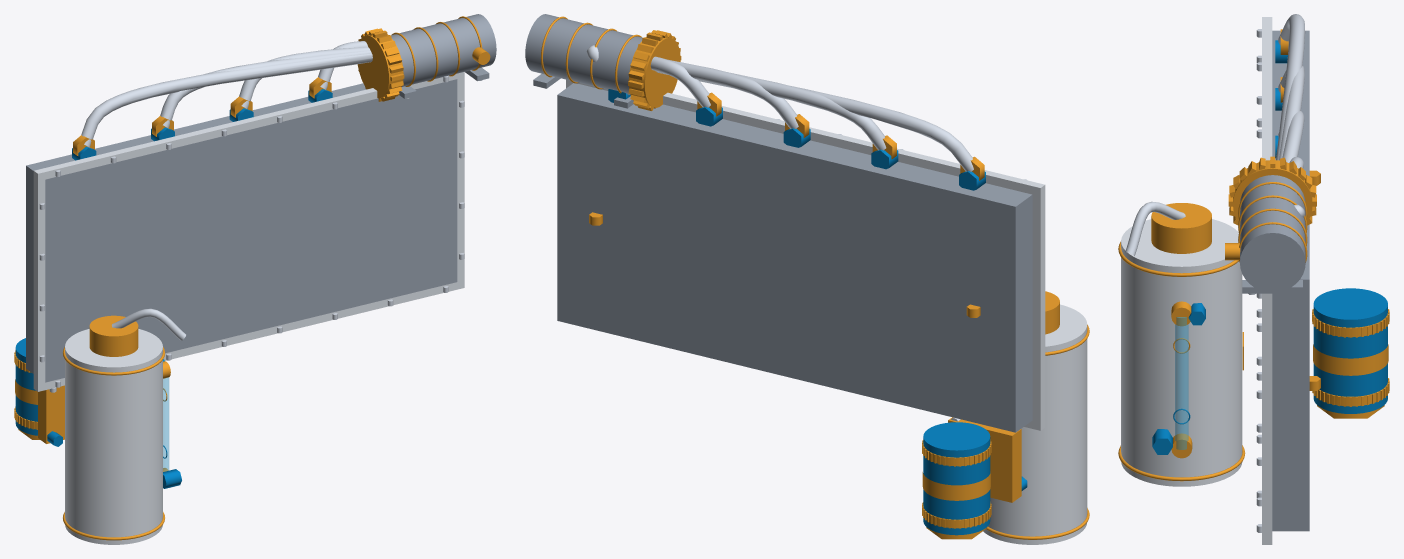
The model's file is dry-sump.glb.
3 renders of one model, left to right at view 1: azimuth 30°, elevation 25°; view 2: azimuth 150°, elevation 25°; view 3: azimuth 270°, elevation 25°, orthographic. The views are drawn at different scales.
Parts seen in each view (by area): view 1: CNC_Low_Profile_Scavenge_Pan_Trough, Cyclone_DeAerator_Reservoir_Vessel, Perimeter_Pan_Rail_Mounting_Flange, Gerotor_4Stage_Pump_Body, AN12_Braided_Scavenge_Line_1, Tank_Breather_Cyclone_Cap, Gilmer_Cogged_Pulley_Wheel, Thermostatic_Sandwich_Adapter_Plate, AN12_Braided_Scavenge_Line_2, Cobalt_Racing_HighFlow_Filter_Canister, AN12_Braided_Scavenge_Line_3, Breather_Catch_Can_Vent_Hose (+1 smaller); view 2: CNC_Low_Profile_Scavenge_Pan_Trough, Cyclone_DeAerator_Reservoir_Vessel, Perimeter_Pan_Rail_Mounting_Flange, Gerotor_4Stage_Pump_Body, Cobalt_Racing_HighFlow_Filter_Canister, Thermostatic_Sandwich_Adapter_Plate, AN12_Braided_Scavenge_Line_1, AN12_Braided_Scavenge_Line_2, Gilmer_Cogged_Pulley_Wheel, AN12_Braided_Scavenge_Line_3, Filter_Etched_Spec_Label_Band, AN12_Braided_Scavenge_Line_4 (+2 smaller); view 3: Cyclone_DeAerator_Reservoir_Vessel, CNC_Low_Profile_Scavenge_Pan_Trough, Gerotor_4Stage_Pump_Body, Cobalt_Racing_HighFlow_Filter_Canister, Perimeter_Pan_Rail_Mounting_Flange, Tank_Breather_Cyclone_Cap, Oil_Level_Quartz_Sight_Glass, AN12_Braided_Scavenge_Line_1, Filter_Etched_Spec_Label_Band, Gilmer_Cogged_Pulley_Wheel, Breather_Catch_Can_Vent_Hose, AN12_Braided_Scavenge_Line_2 (+9 smaller).
Part boxes in pixels (bbox=[...]): CNC_Low_Profile_Scavenge_Pan_Trough: bbox=[26, 79, 457, 382]; Cyclone_DeAerator_Reservoir_Vessel: bbox=[65, 329, 162, 544]; Perimeter_Pan_Rail_Mounting_Flange: bbox=[33, 72, 464, 391]; Gerotor_4Stage_Pump_Body: bbox=[391, 14, 496, 86]; AN12_Braided_Scavenge_Line_1: bbox=[81, 53, 372, 147]; Tank_Breather_Cyclone_Cap: bbox=[89, 315, 138, 356]; Gilmer_Cogged_Pulley_Wheel: bbox=[357, 34, 403, 98]; Thermostatic_Sandwich_Adapter_Plate: bbox=[38, 385, 64, 443]; AN12_Braided_Scavenge_Line_2: bbox=[160, 51, 371, 128]; Cobalt_Racing_HighFlow_Filter_Canister: bbox=[15, 338, 37, 435]; AN12_Braided_Scavenge_Line_3: bbox=[239, 47, 370, 109]; Breather_Catch_Can_Vent_Hose: bbox=[112, 308, 185, 340]; CNC_Low_Profile_Scavenge_Pan_Trough: bbox=[557, 83, 1032, 432]; Cyclone_DeAerator_Reservoir_Vessel: bbox=[983, 304, 1087, 544]; Perimeter_Pan_Rail_Mounting_Flange: bbox=[566, 79, 1045, 430]; Gerotor_4Stage_Pump_Body: bbox=[525, 14, 642, 95]; Cobalt_Racing_HighFlow_Filter_Canister: bbox=[923, 422, 990, 535]; Thermostatic_Sandwich_Adapter_Plate: bbox=[948, 417, 1021, 502]; AN12_Braided_Scavenge_Line_1: bbox=[657, 72, 973, 171]; AN12_Braided_Scavenge_Line_2: bbox=[657, 71, 886, 150]; Gilmer_Cogged_Pulley_Wheel: bbox=[628, 37, 680, 107]; AN12_Braided_Scavenge_Line_3: bbox=[655, 59, 798, 128]; Filter_Etched_Spec_Label_Band: bbox=[922, 471, 990, 500]; AN12_Braided_Scavenge_Line_4: bbox=[650, 56, 710, 107]; Cyclone_DeAerator_Reservoir_Vessel: bbox=[1121, 219, 1242, 486]; CNC_Low_Profile_Scavenge_Pan_Trough: bbox=[1272, 30, 1309, 531]; Gerotor_4Stage_Pump_Body: bbox=[1240, 175, 1305, 292]; Cobalt_Racing_HighFlow_Filter_Canister: bbox=[1313, 288, 1387, 413]; Perimeter_Pan_Rail_Mounting_Flange: bbox=[1262, 17, 1272, 544]; Tank_Breather_Cyclone_Cap: bbox=[1151, 203, 1211, 253]; Oil_Level_Quartz_Sight_Glass: bbox=[1175, 317, 1188, 449]; AN12_Braided_Scavenge_Line_1: bbox=[1276, 14, 1305, 160]; Filter_Etched_Spec_Label_Band: bbox=[1313, 344, 1388, 375]; Gilmer_Cogged_Pulley_Wheel: bbox=[1233, 160, 1312, 222]; Breather_Catch_Can_Vent_Hose: bbox=[1125, 201, 1185, 255]; AN12_Braided_Scavenge_Line_2: bbox=[1278, 65, 1304, 160].
Bounding box in the file's own units: 0.7432 × 0.616 × 0.313.
